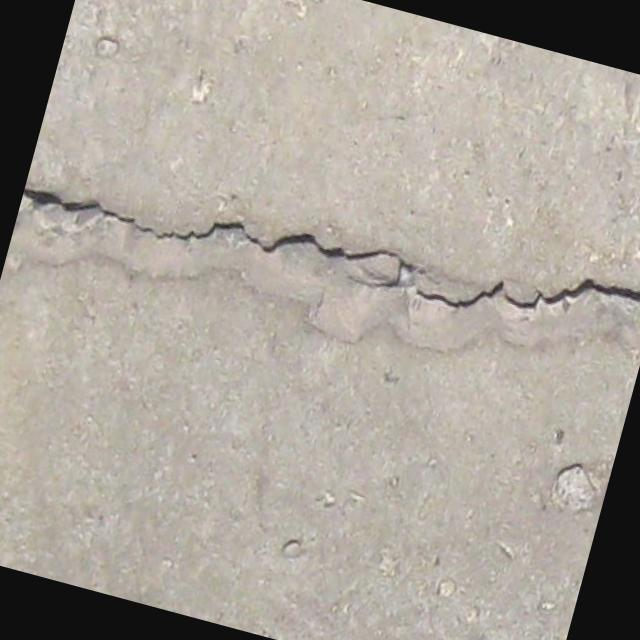crack: (11, 126, 640, 403)
